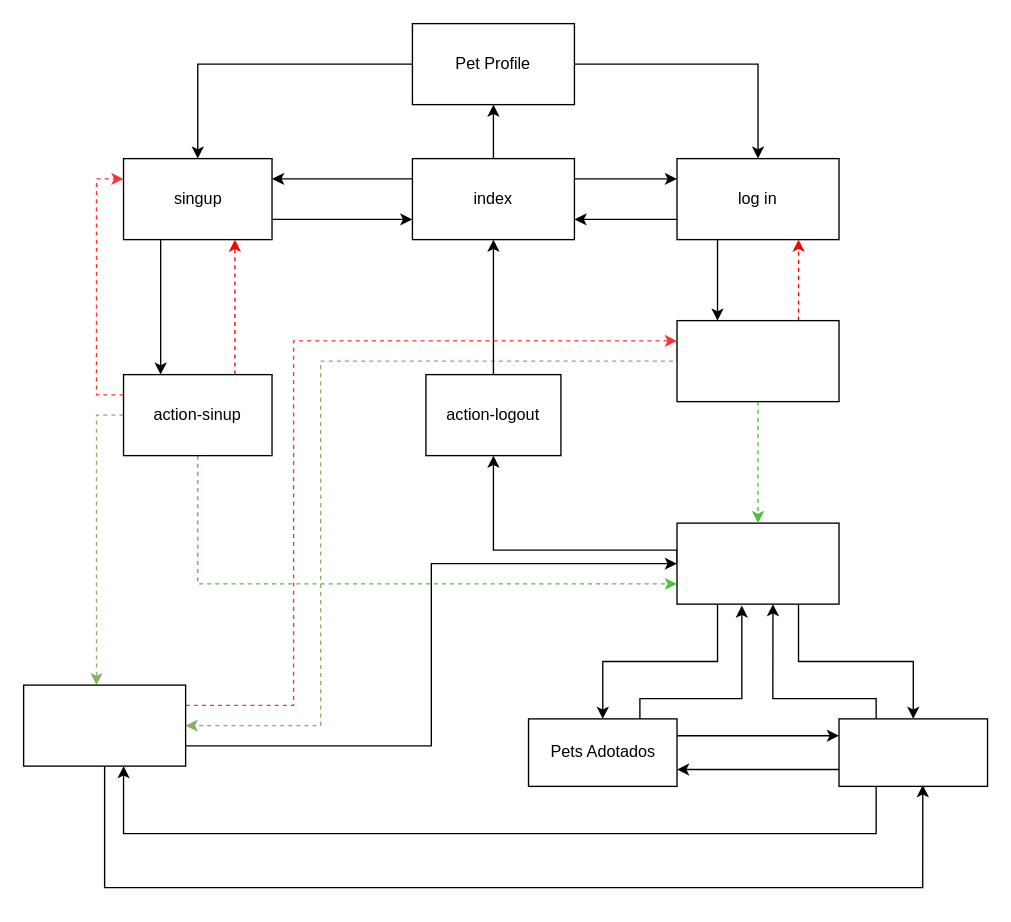
The diagram is 1011 pixels wide and 922 high, and some of its shapes have lost their labels. Each missing label, with the box of its shape:
action-login: (676, 319, 839, 402)
Pets para adoçao: (838, 718, 988, 786)
Processo de adoçao: (22, 684, 186, 766)
user/shelter profile: (676, 522, 839, 604)
